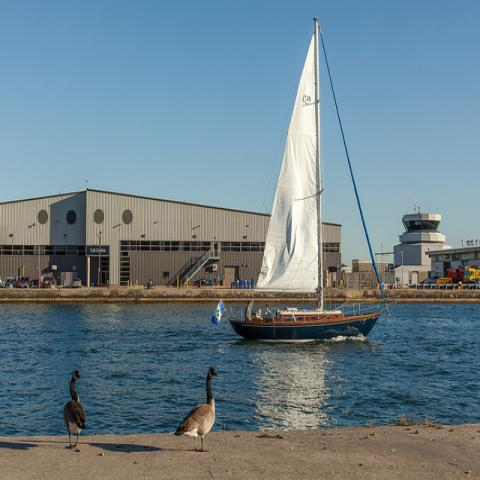car: (424, 276, 439, 288), (42, 277, 56, 288), (19, 276, 31, 288), (4, 278, 17, 287), (72, 278, 82, 289), (0, 276, 3, 287)
truck: (463, 263, 479, 283), (446, 267, 465, 283)
